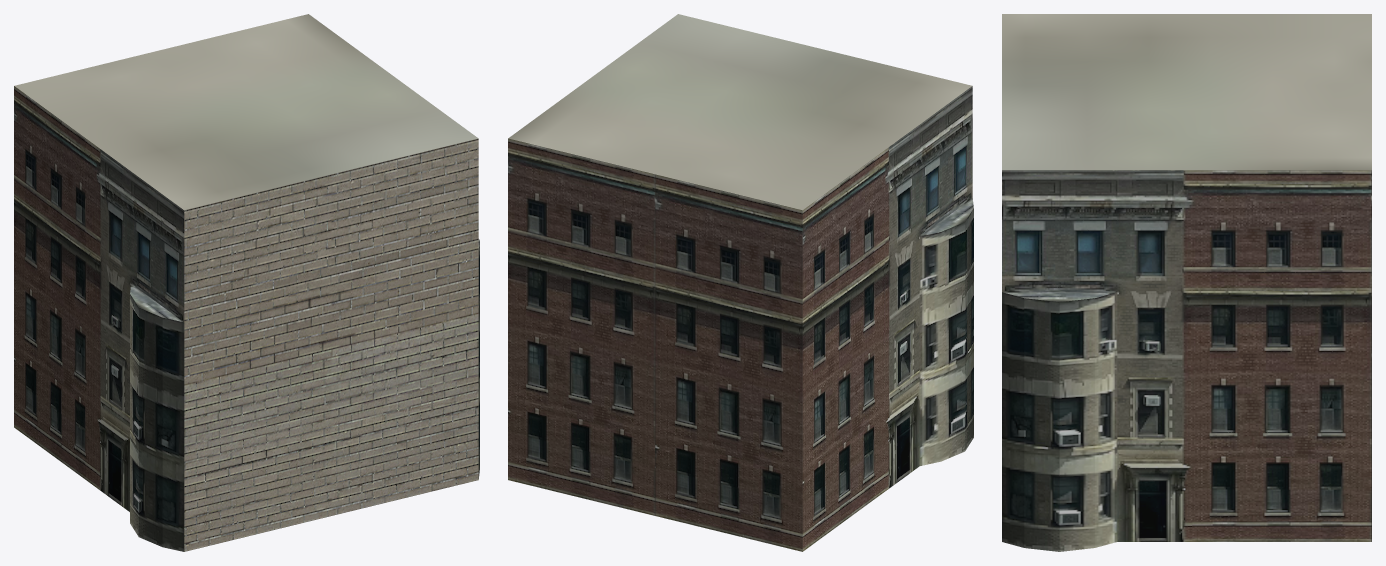
The model's file is SM_Facade_Townhouse_02.fbx.
3 renders of one model, left to right at view 1: azimuth 30°, elevation 25°; view 2: azimuth 150°, elevation 25°; view 3: azimuth 270°, elevation 25°, orthographic. The views are drawn at different scales.
Visible parts, largest first — view 1: SM_Facade_Townhouse_02; view 2: SM_Facade_Townhouse_02; view 3: SM_Facade_Townhouse_02.
Part boxes in pixels (x1,y1,x2,y2): SM_Facade_Townhouse_02: (14, 14, 479, 551); SM_Facade_Townhouse_02: (508, 14, 973, 551); SM_Facade_Townhouse_02: (1002, 14, 1371, 551).
Bounding box in the file's own units: 1015 × 997 × 900.
